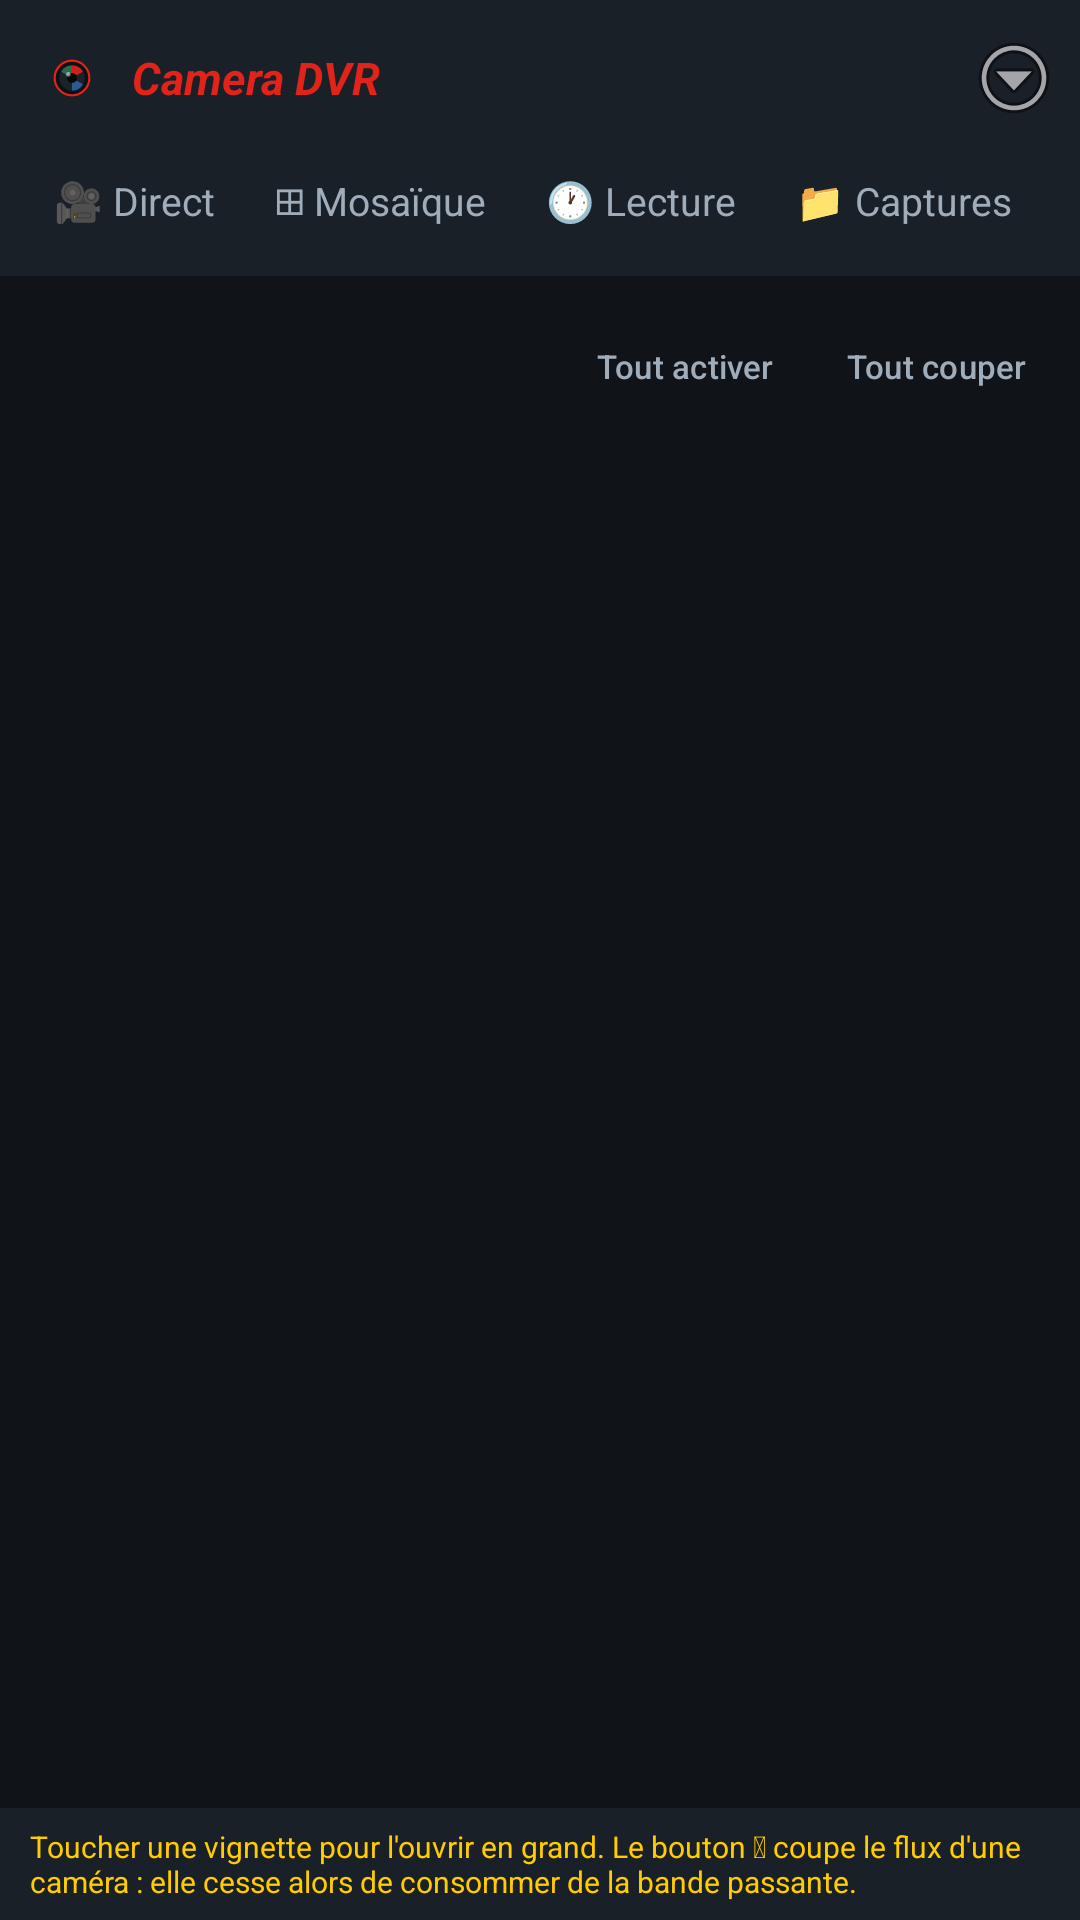

Where icons sit on this 1080w x 1920h app screen, as (x1, y1, x2, y2):
Menu: (981, 46, 1047, 111)
